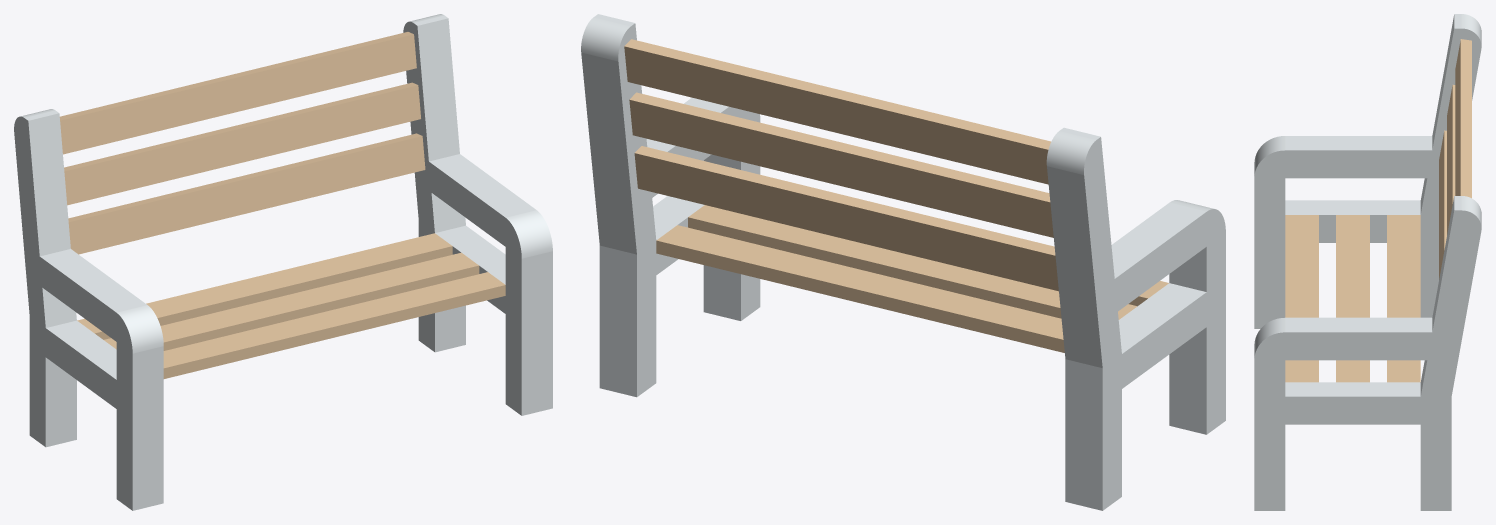
Rendered from bench.glb.
The picture shows the model from 3 angles, left to right: view 1: azimuth 30°, elevation 25°; view 2: azimuth 150°, elevation 25°; view 3: azimuth 270°, elevation 25°; orthographic projection. The views are drawn at different scales.
Visible parts, largest first — view 1: bench %8angles(Clone); view 2: bench %8angles(Clone); view 3: bench %8angles(Clone).
Boxes of the visible parts, left/top/right/bottom form: bench %8angles(Clone): left=14, top=14, right=552, bottom=510; bench %8angles(Clone): left=581, top=14, right=1225, bottom=510; bench %8angles(Clone): left=1254, top=14, right=1481, bottom=510.
Size of the model in its own units: 0.7695 by 0.549 by 0.3763.
